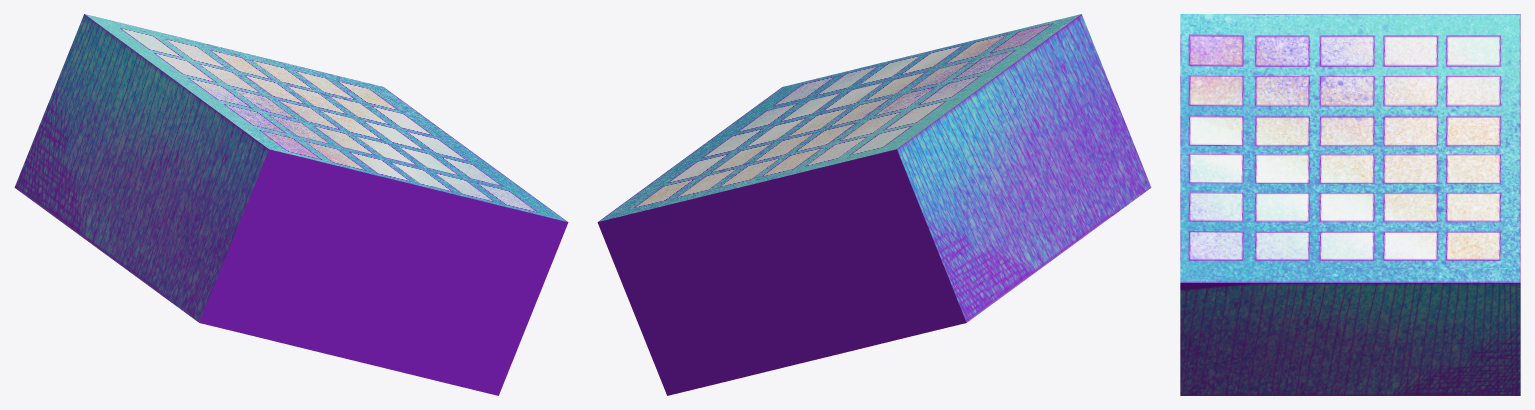
The model's file is Build_A.obj.
The picture shows the model from 3 angles, left to right: view 1: azimuth 30°, elevation 25°; view 2: azimuth 150°, elevation 25°; view 3: azimuth 270°, elevation 25°; orthographic projection. The views are drawn at different scales.
Visible parts, largest first — view 1: Build_A; view 2: Build_A; view 3: Build_A.
Part boxes in pixels (box(x1,y1,x2,y2)): Build_A: box(14, 14, 568, 395); Build_A: box(597, 14, 1151, 395); Build_A: box(1180, 14, 1520, 395).
Size of the model in its own units: 0.3576 by 0.2802 by 0.3101.
